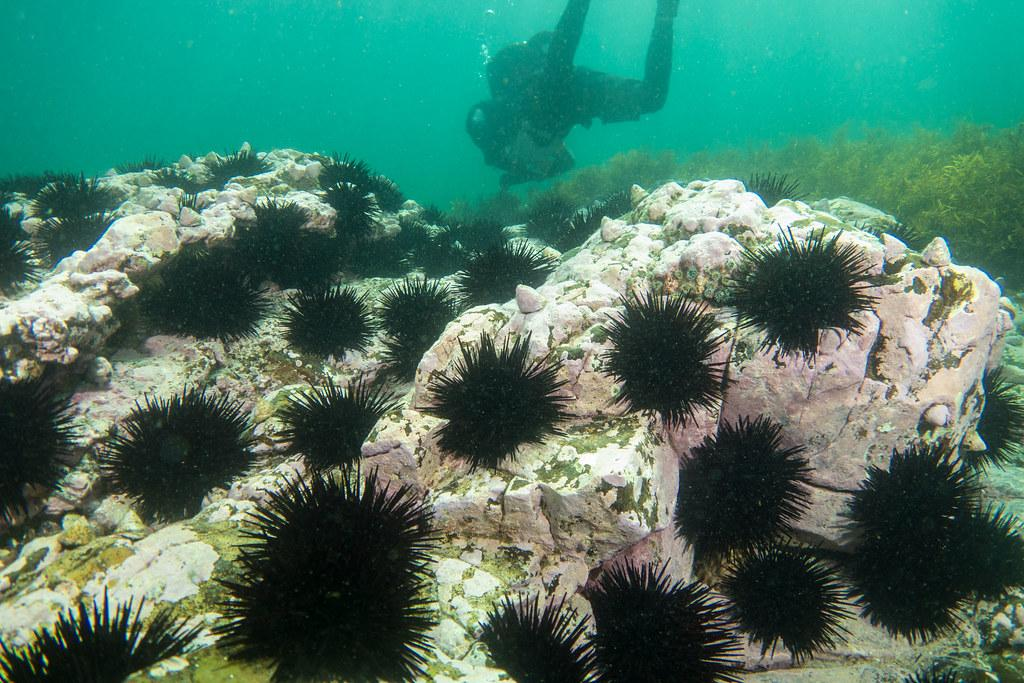urchin: (202, 465, 447, 683), (825, 439, 1024, 648), (87, 380, 271, 529), (712, 218, 887, 364), (413, 329, 582, 477), (577, 559, 749, 683), (673, 415, 819, 561), (597, 288, 742, 434), (0, 585, 204, 683), (716, 537, 861, 668), (268, 368, 408, 474), (142, 243, 273, 352), (0, 371, 86, 532), (472, 589, 607, 683), (314, 180, 434, 281), (237, 197, 341, 293), (267, 276, 379, 361), (373, 275, 464, 378), (453, 241, 564, 315), (962, 364, 1024, 478), (314, 146, 408, 217), (419, 212, 512, 280), (40, 205, 126, 271), (555, 188, 640, 253), (30, 173, 133, 225), (0, 200, 44, 300), (190, 146, 280, 188), (739, 170, 810, 211), (518, 200, 572, 246), (115, 154, 171, 177), (419, 204, 456, 233)
